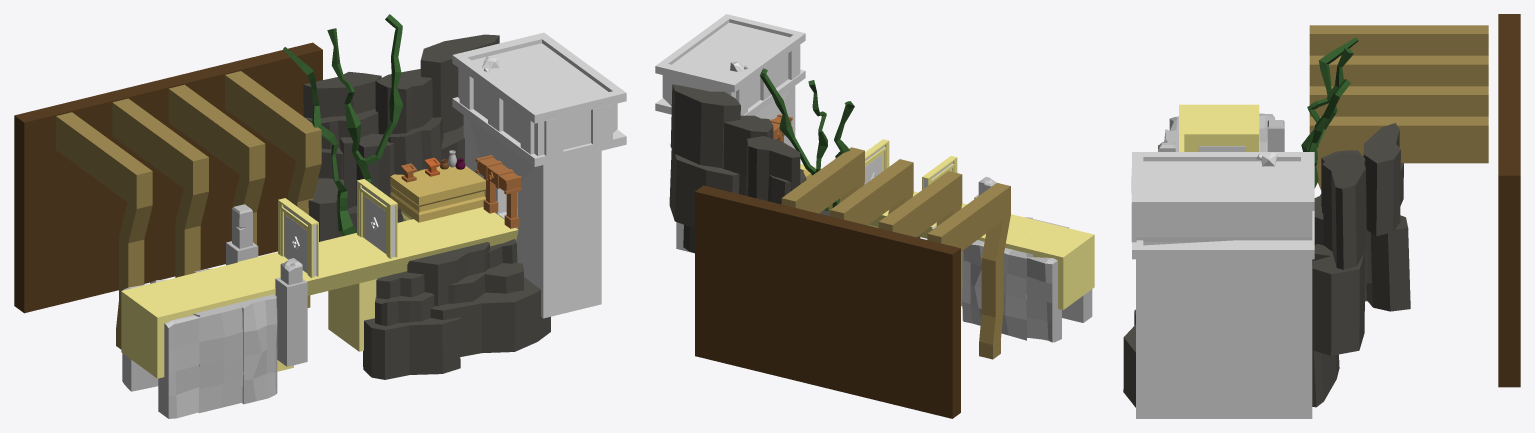
The model's file is stagetry.fbx.
3 views of the same model, side by side, from view 1: azimuth 30°, elevation 25°; view 2: azimuth 150°, elevation 25°; view 3: azimuth 270°, elevation 25° (orthographic). The views are drawn at different scales.
Visible parts, largest first — view 1: Cube.004, Endwall, Cube.003, lower cliff, upper cliff, Cube.009, Base Floor, Start floor, Con florr, Cube.002, Cube.008, exitsign01 (+7 smaller); view 2: Cube.004, Cube.003, upper cliff, Endwall, Cube.010, Start floor, Cube.008, Cube.009, Doorframe, Doorframe.001, Cube.007; view 3: Endwall, Cube.003, upper cliff, Cube.004, Start floor, Cube.008, Doorframe, lower cliff, Cube.007, Cube.006, Cube.010.
Boxes of the visible parts, x1,y1,x2,y2 form: Cube.004: (14,42,322,313); Endwall: (452,32,626,318); Cube.003: (56,71,321,349); lower cliff: (363,239,550,379); upper cliff: (303,34,499,241); Cube.009: (158,294,277,418); Base Floor: (237,207,518,371); Start floor: (121,262,275,378); Con florr: (390,165,485,222); Cube.002: (275,258,307,366); Cube.008: (327,14,402,183); exitsign01: (475,155,521,228); Cube.004: (695,185,960,418); Cube.003: (781,147,1010,359); upper cliff: (669,84,830,253); Endwall: (655,14,805,252); Cube.010: (962,240,1061,342); Start floor: (961,214,1094,309); Cube.008: (760,68,829,211); Cube.009: (1025,217,1092,322); Doorframe: (922,156,957,189); Doorframe.001: (865,139,889,171); Cube.007: (832,101,854,207); Endwall: (1131,152,1314,418); Cube.003: (1309,25,1488,190); upper cliff: (1312,123,1410,407); Cube.004: (1498,14,1520,387); Start floor: (1179,104,1259,151); Cube.008: (1301,48,1353,188); Doorframe: (1184,130,1258,151); lower cliff: (1123,309,1135,407); Cube.007: (1317,37,1358,147); Cube.006: (1267,120,1284,151); Cube.010: (1259,113,1275,151).
Bounding box in the file's own units: 5212 × 3122 × 3605.
